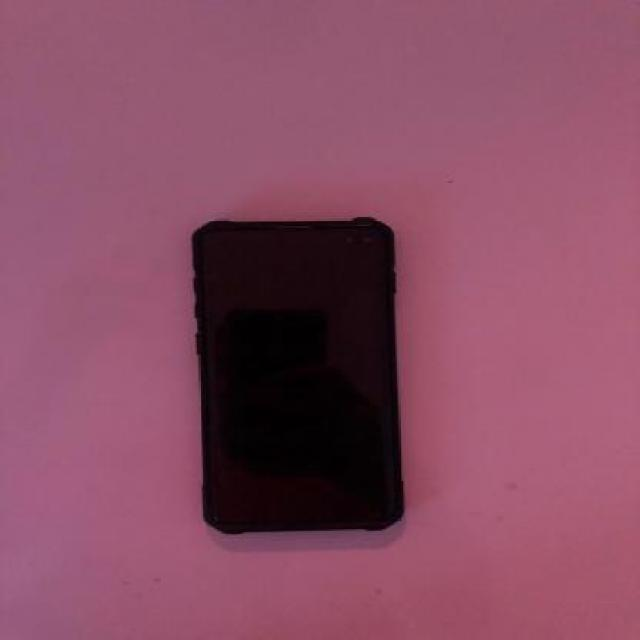phone: (191, 216, 409, 536)
